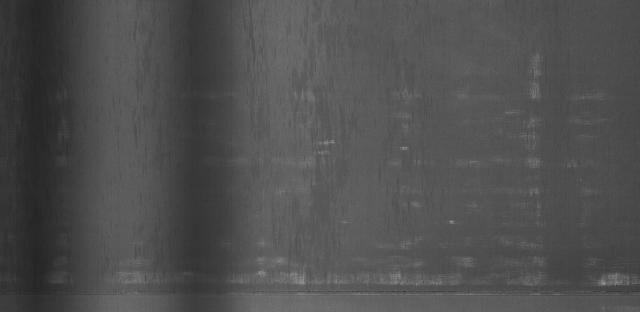welding_line: (8, 283, 640, 303)
